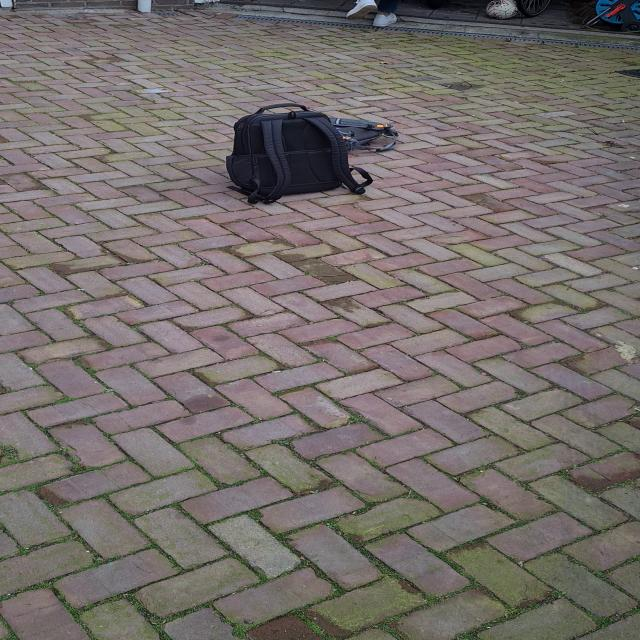backpack: (218, 102, 362, 204), (320, 116, 401, 155)
